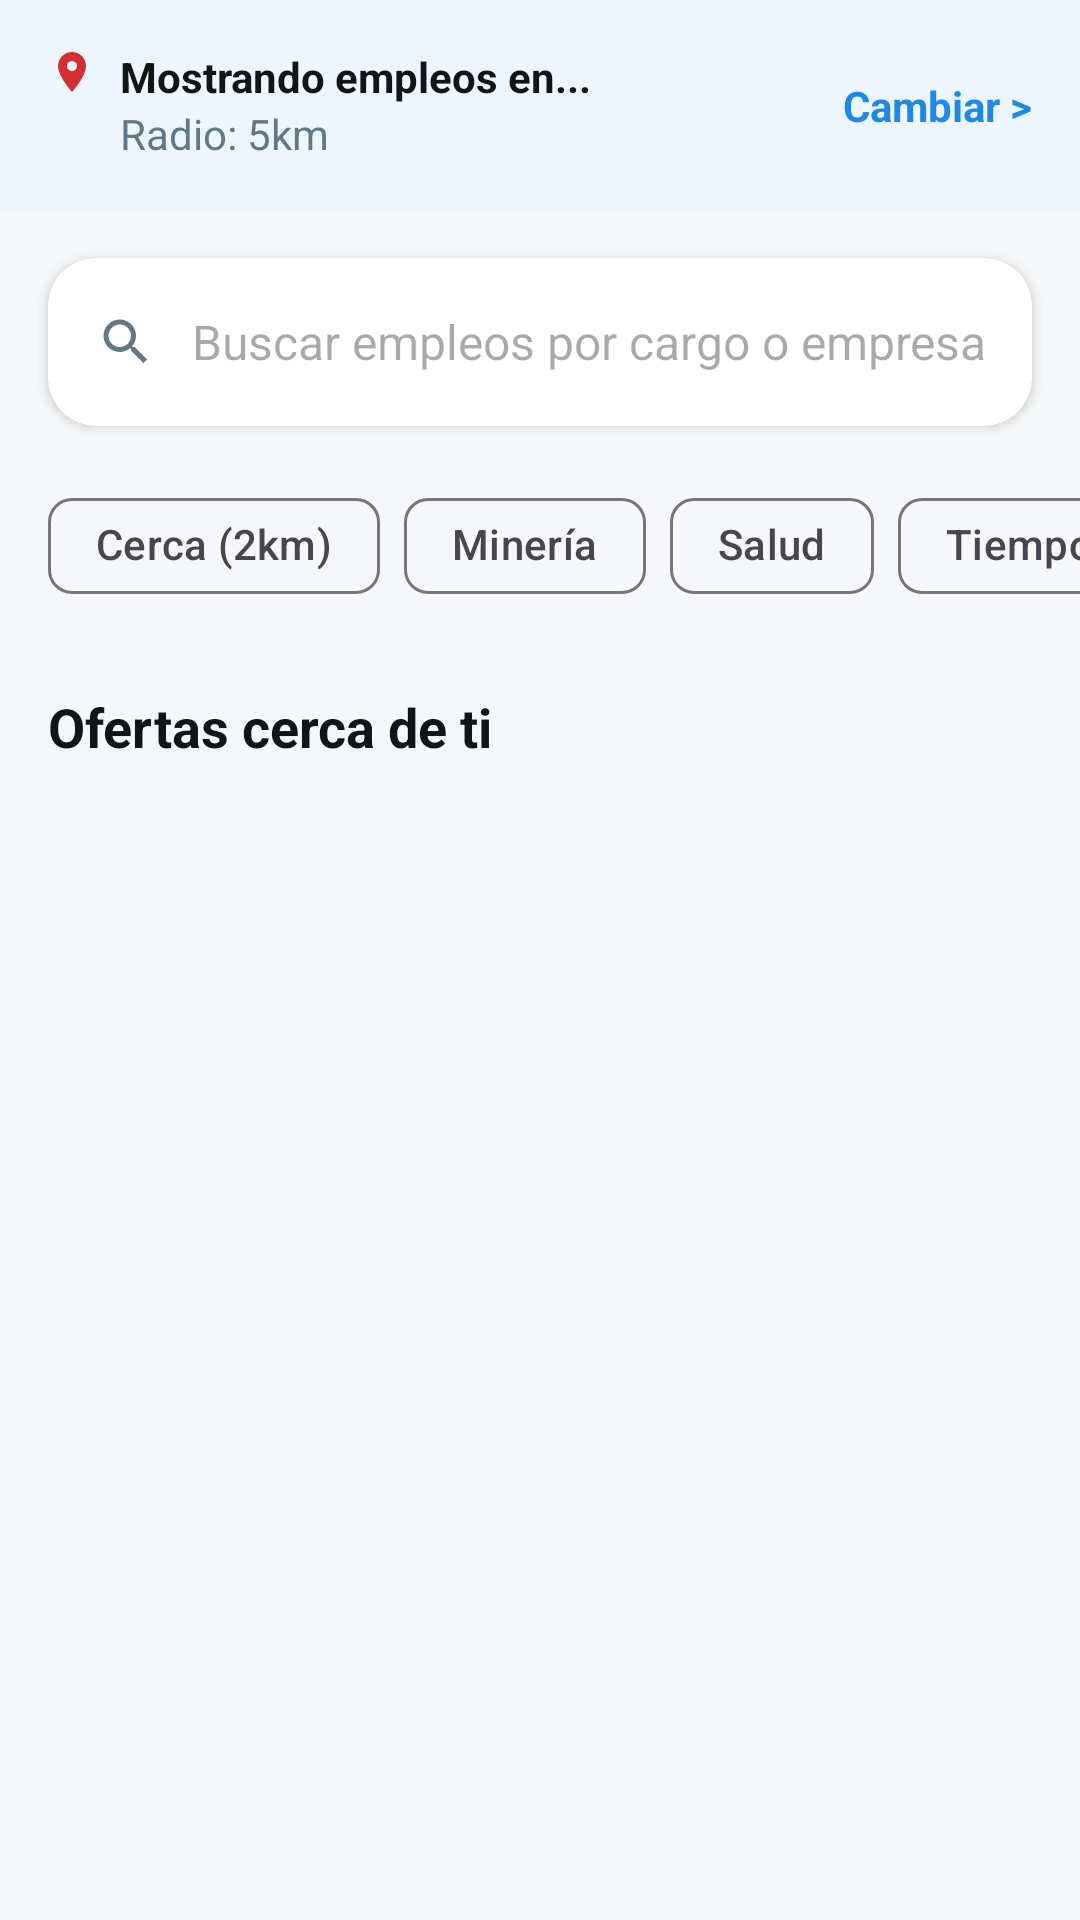

Where icons sit on this 1080*1920 app screen, as [x1,y1,x2,y2]:
location: [58,52,86,92]
search: [103,319,147,363]
